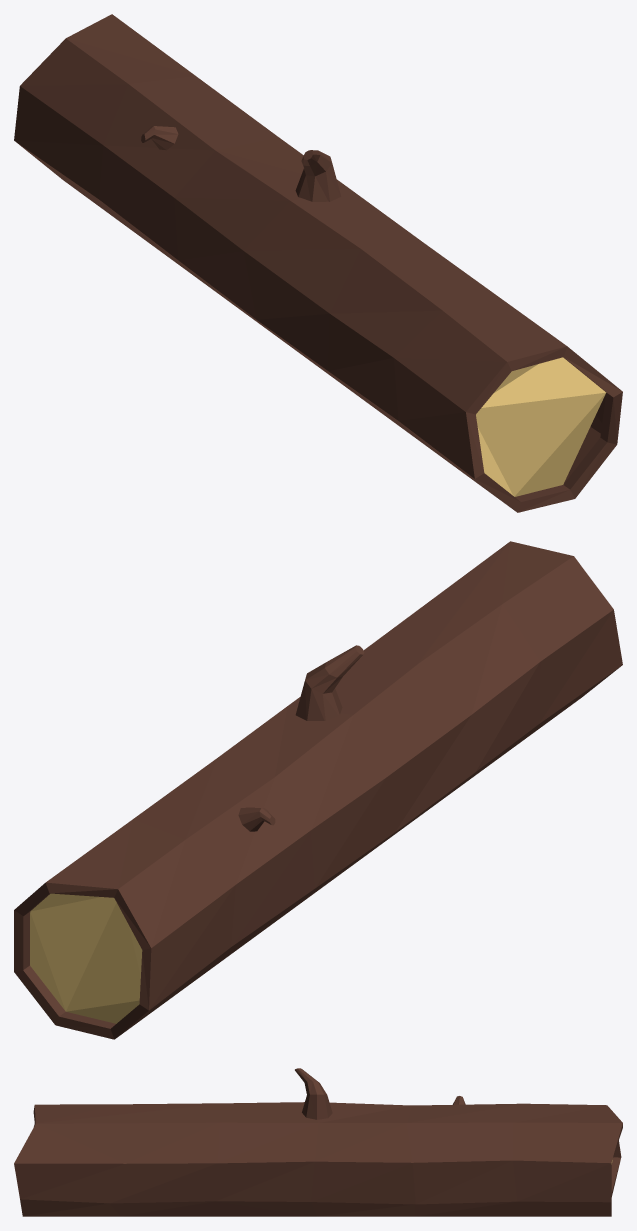
The model's file is log_01.glb.
The picture shows the model from 3 angles, top to bottom: view 1: azimuth 30°, elevation 25°; view 2: azimuth 150°, elevation 25°; view 3: azimuth 270°, elevation 25°; orthographic projection. The views are drawn at different scales.
Visible parts, largest first — view 1: Object_7, Object_8; view 2: Object_7, Object_8; view 3: Object_7.
Part boxes in pixels (x1,y1,x2,y2): Object_7: (14, 14, 622, 512); Object_8: (476, 357, 606, 496); Object_7: (14, 541, 622, 1039); Object_8: (30, 893, 142, 1023); Object_7: (14, 1068, 622, 1216).
Bounding box in the file's own units: 1.05 × 1.44 × 6.02.
